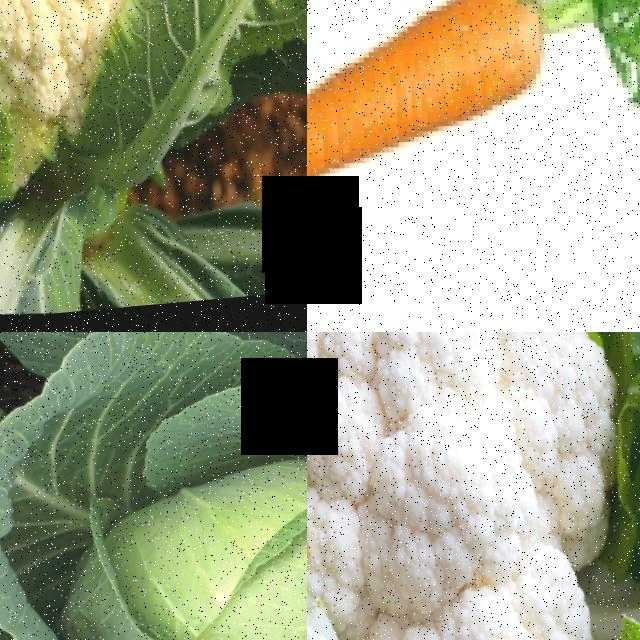cabbage: (10, 335, 307, 640)
carrot: (307, 0, 607, 311)
cauliflower: (307, 332, 640, 640), (0, 0, 218, 208)
